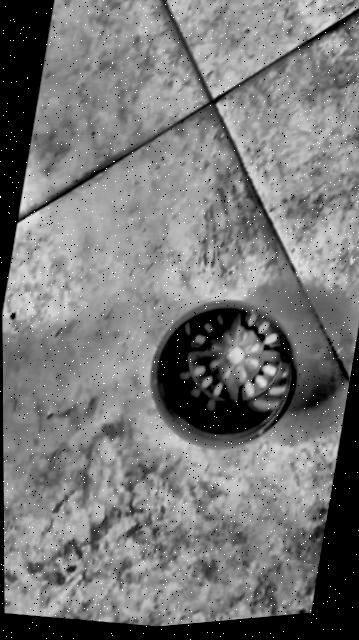pot: (150, 302, 295, 446)
